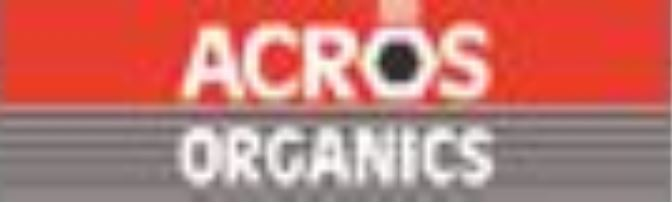AcrosOrganics: (174, 21, 496, 196)
